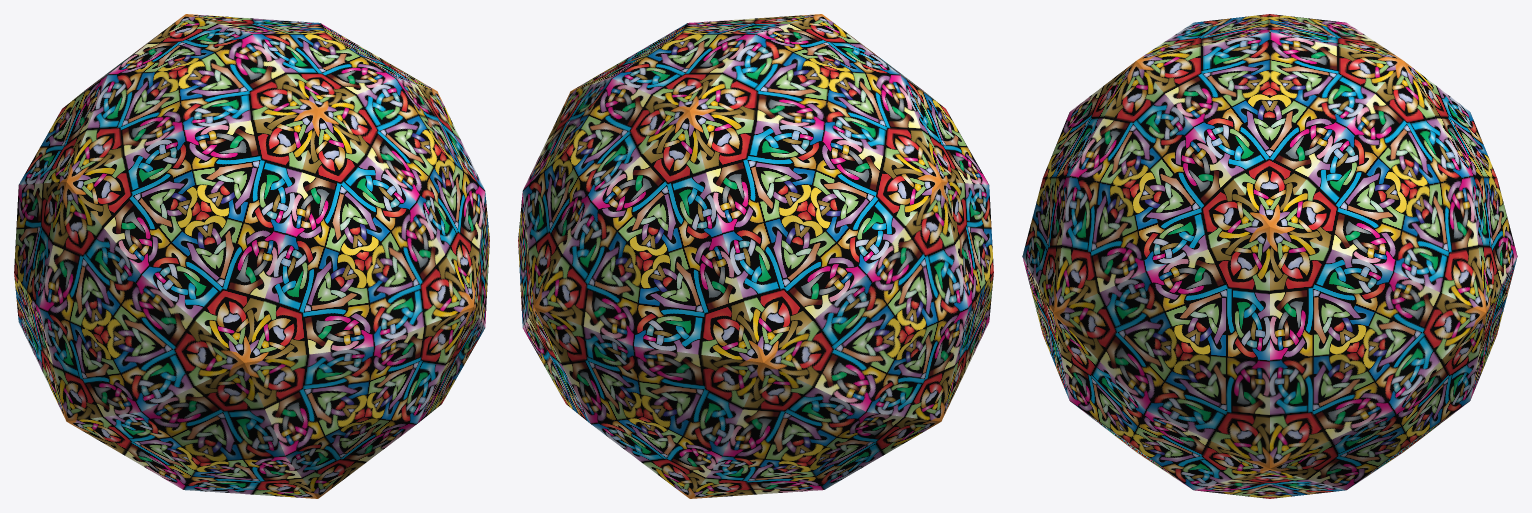
Rendered from 33DeltoidalHexecontahedron.obj.
3 renders of one model, left to right at view 1: azimuth 30°, elevation 25°; view 2: azimuth 150°, elevation 25°; view 3: azimuth 270°, elevation 25°, orthographic.
Size of the model in its own units: 4.47 by 4.47 by 4.47.
Materials: 1 (1 with a texture image).
